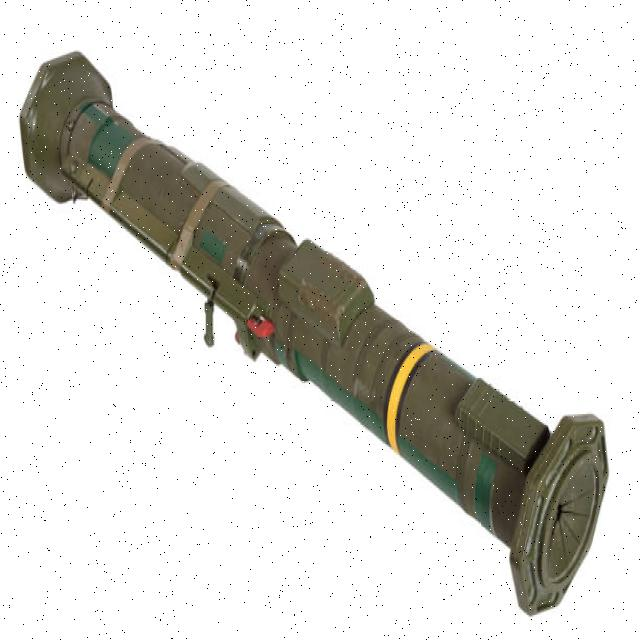bazooka: (11, 46, 625, 628)
